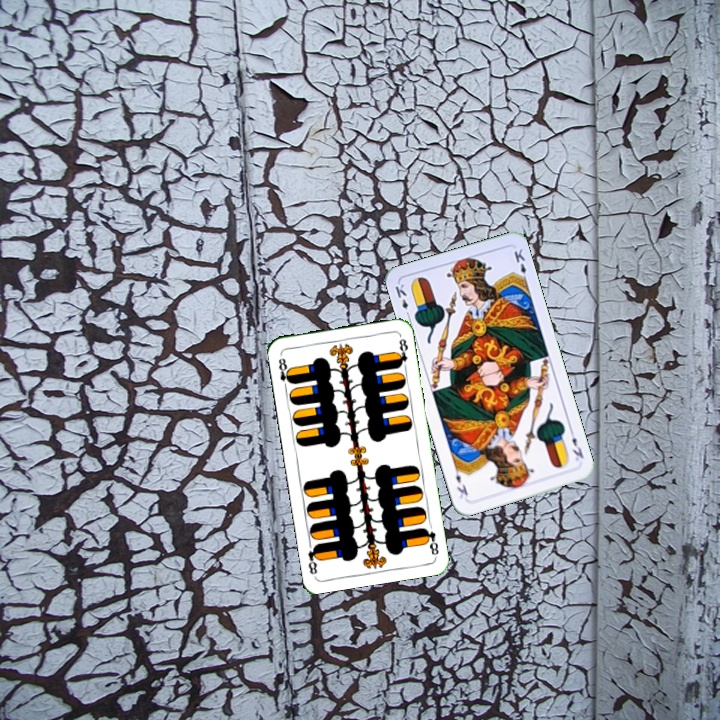E8: (274, 354, 294, 392), (420, 524, 441, 558)
EK: (391, 280, 413, 320), (565, 425, 586, 464)
